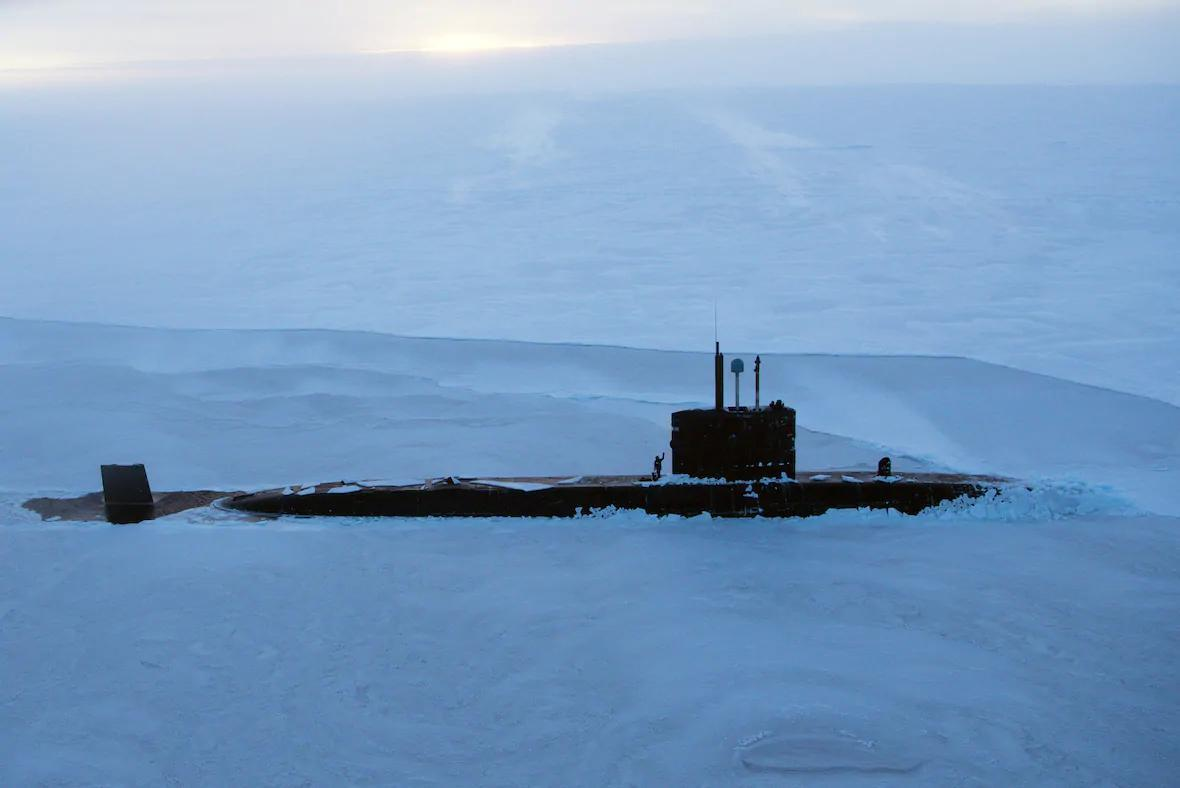Submarine: (26, 298, 1180, 614)
